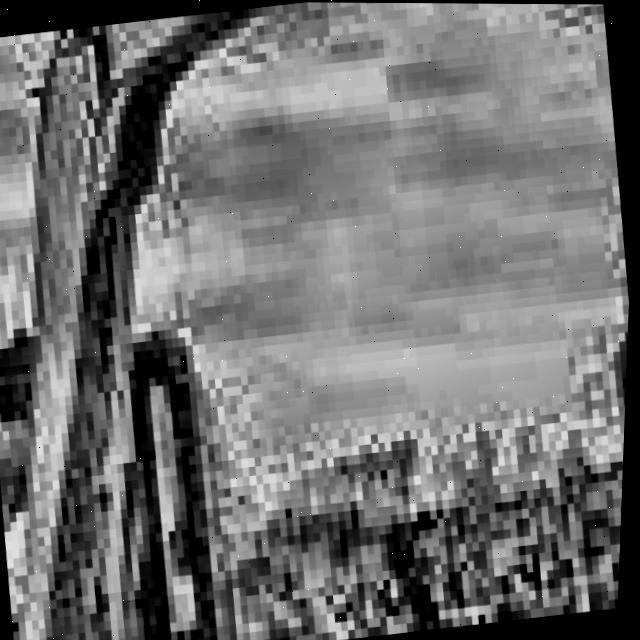excavator: (0, 306, 304, 640)
